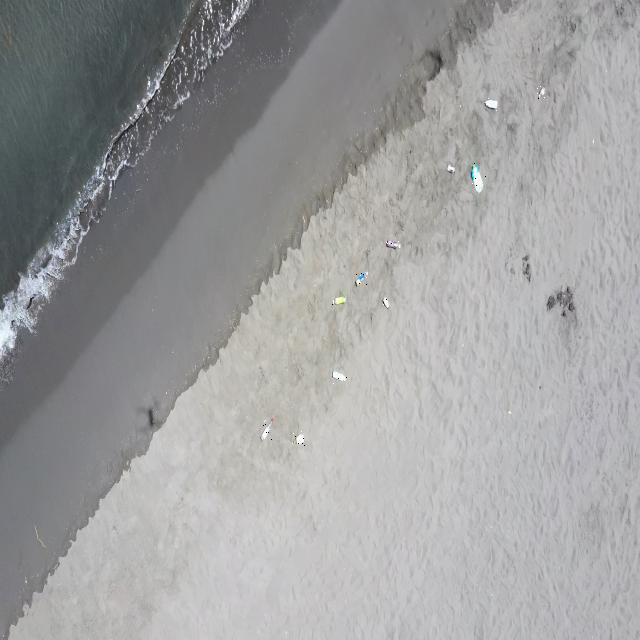Garbage: (470, 163, 483, 192), (260, 416, 272, 440), (35, 524, 44, 548), (332, 369, 346, 380), (355, 272, 367, 284), (384, 240, 400, 247), (536, 85, 544, 99), (484, 99, 496, 108), (332, 296, 344, 304), (295, 433, 303, 444), (447, 163, 455, 173), (382, 296, 388, 307)
